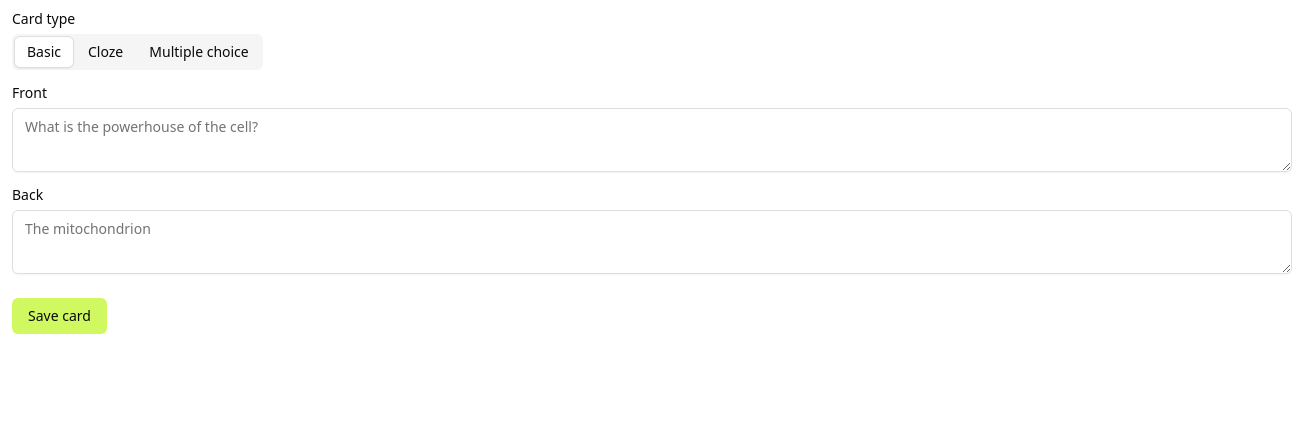
it: multi-group cloze › still rejects cloze text with no deletion at all
Click the button "Cloze".
click(106, 52)  # box [76,36,135,68]
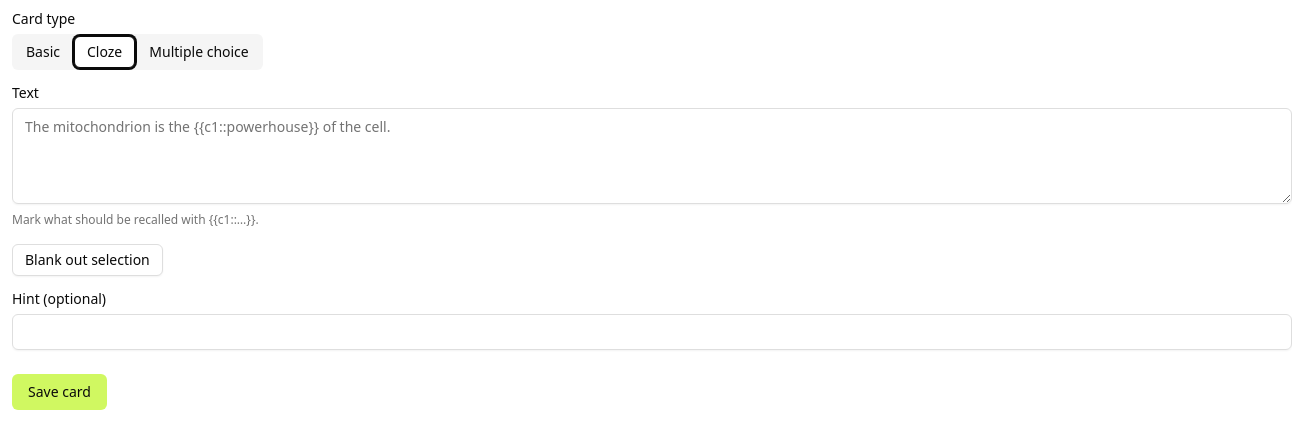
Type "A sentence with nothing hidden." into the text box labelled "Text".
click(652, 156); type("A sentence with nothing hidden.")  # box [12,108,1292,204]
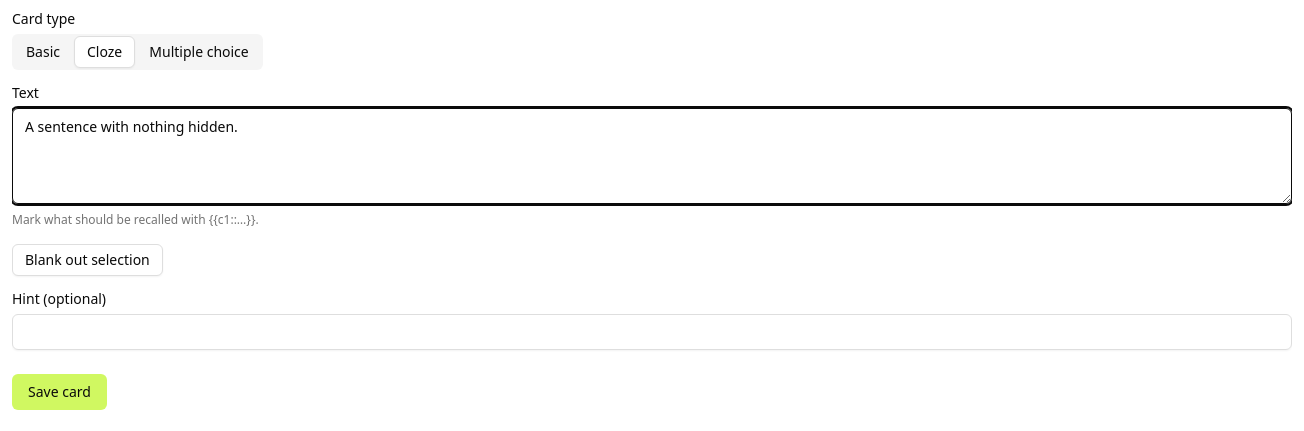
Click the button "Save card".
click(59, 392)  # box [12,374,107,410]
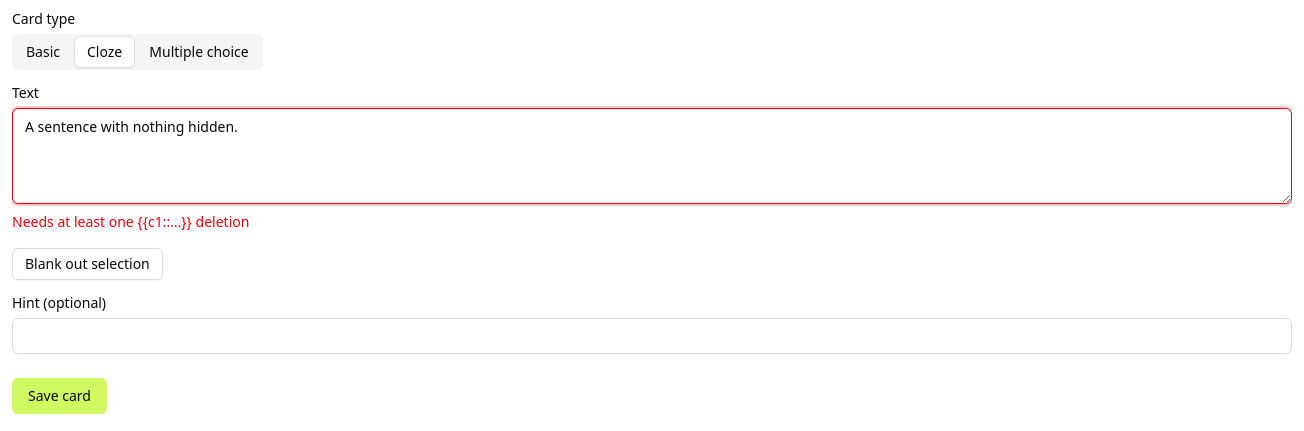
Result: the message shows "at least one" at [12,212,249,231]
